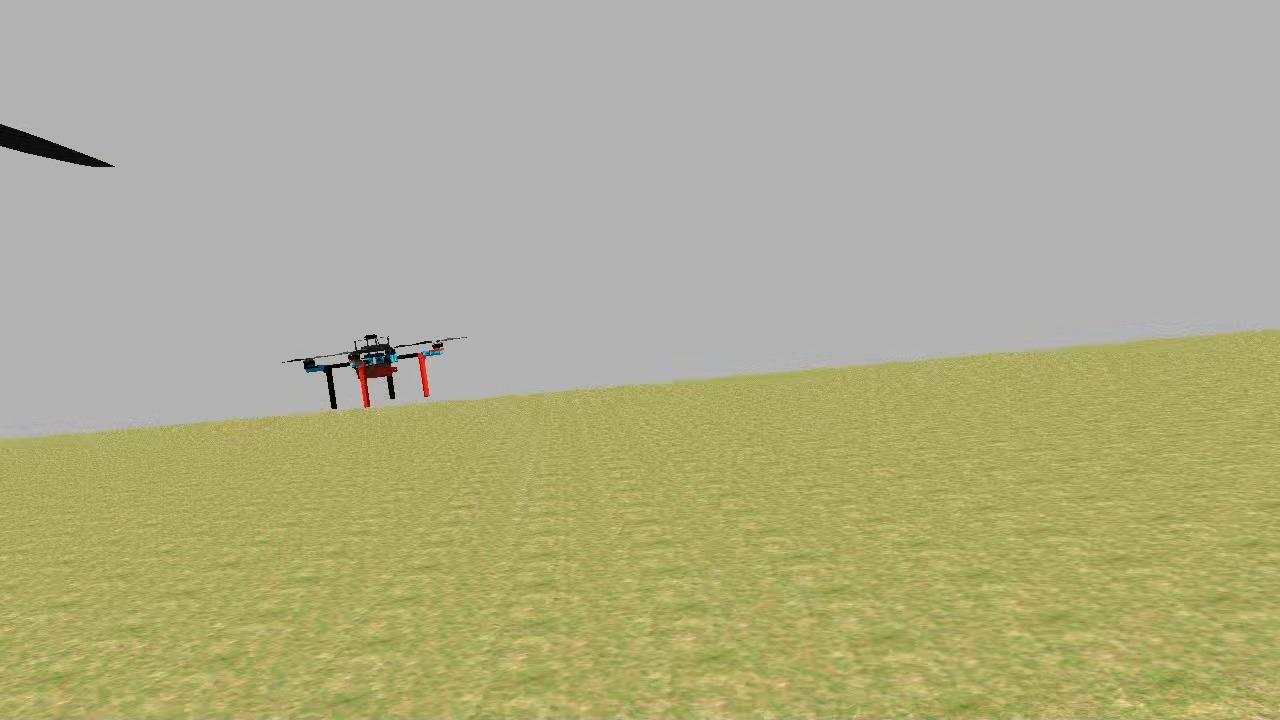UAV: (273, 308, 478, 426)
